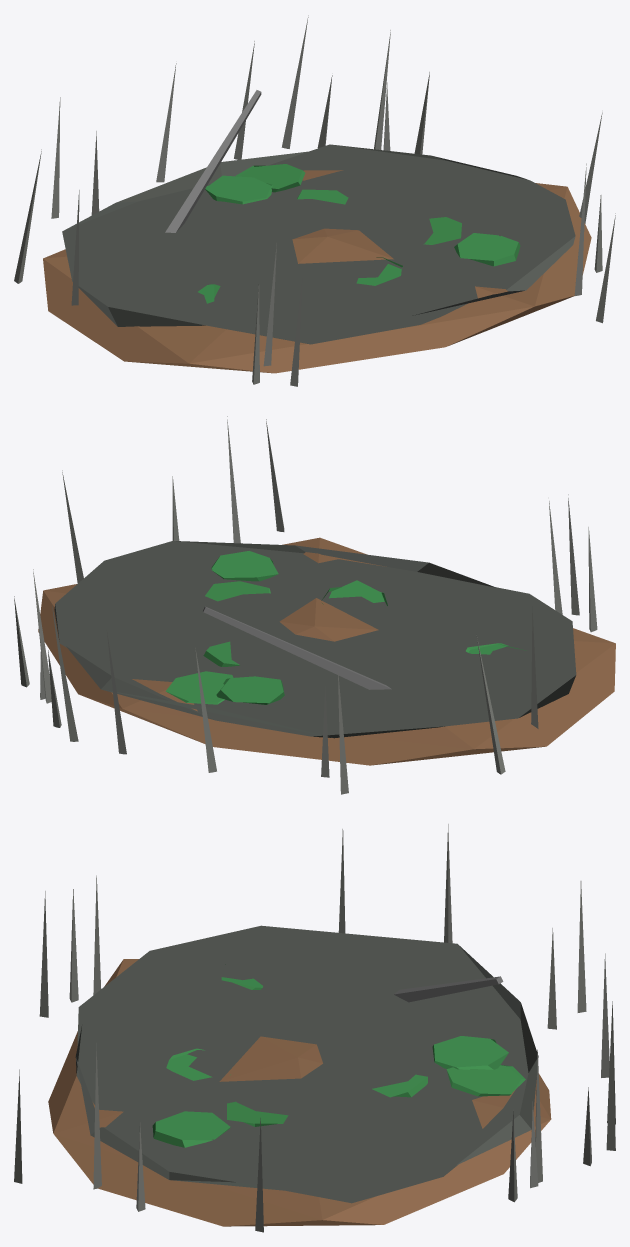
File: lair-pond.glb
3 views of the same model, one above another, from view 1: azimuth 30°, elevation 25°; view 2: azimuth 150°, elevation 25°; view 3: azimuth 270°, elevation 25° (orthographic). The views are drawn at different scales.
Visible parts, largest first — view 1: lair-pond; view 2: lair-pond; view 3: lair-pond.
Part boxes in pixels (box(x1,y1,x2,y2)): lair-pond: box(14, 15, 615, 386); lair-pond: box(14, 416, 615, 794); lair-pond: box(14, 824, 615, 1232).
Size of the model in its own units: 4.87 by 1.19 by 4.31.
